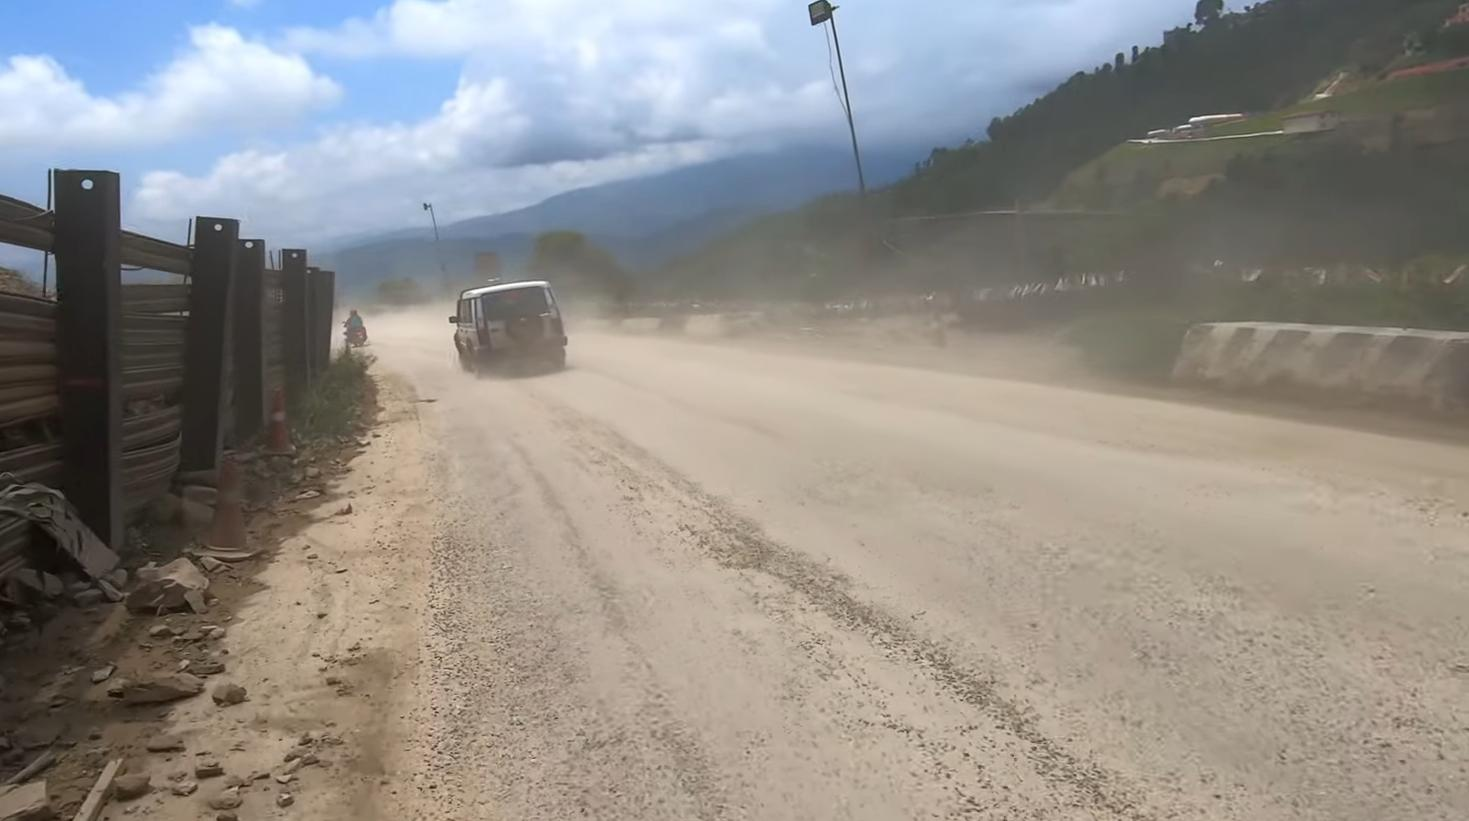ambulance: (446, 277, 576, 382)
